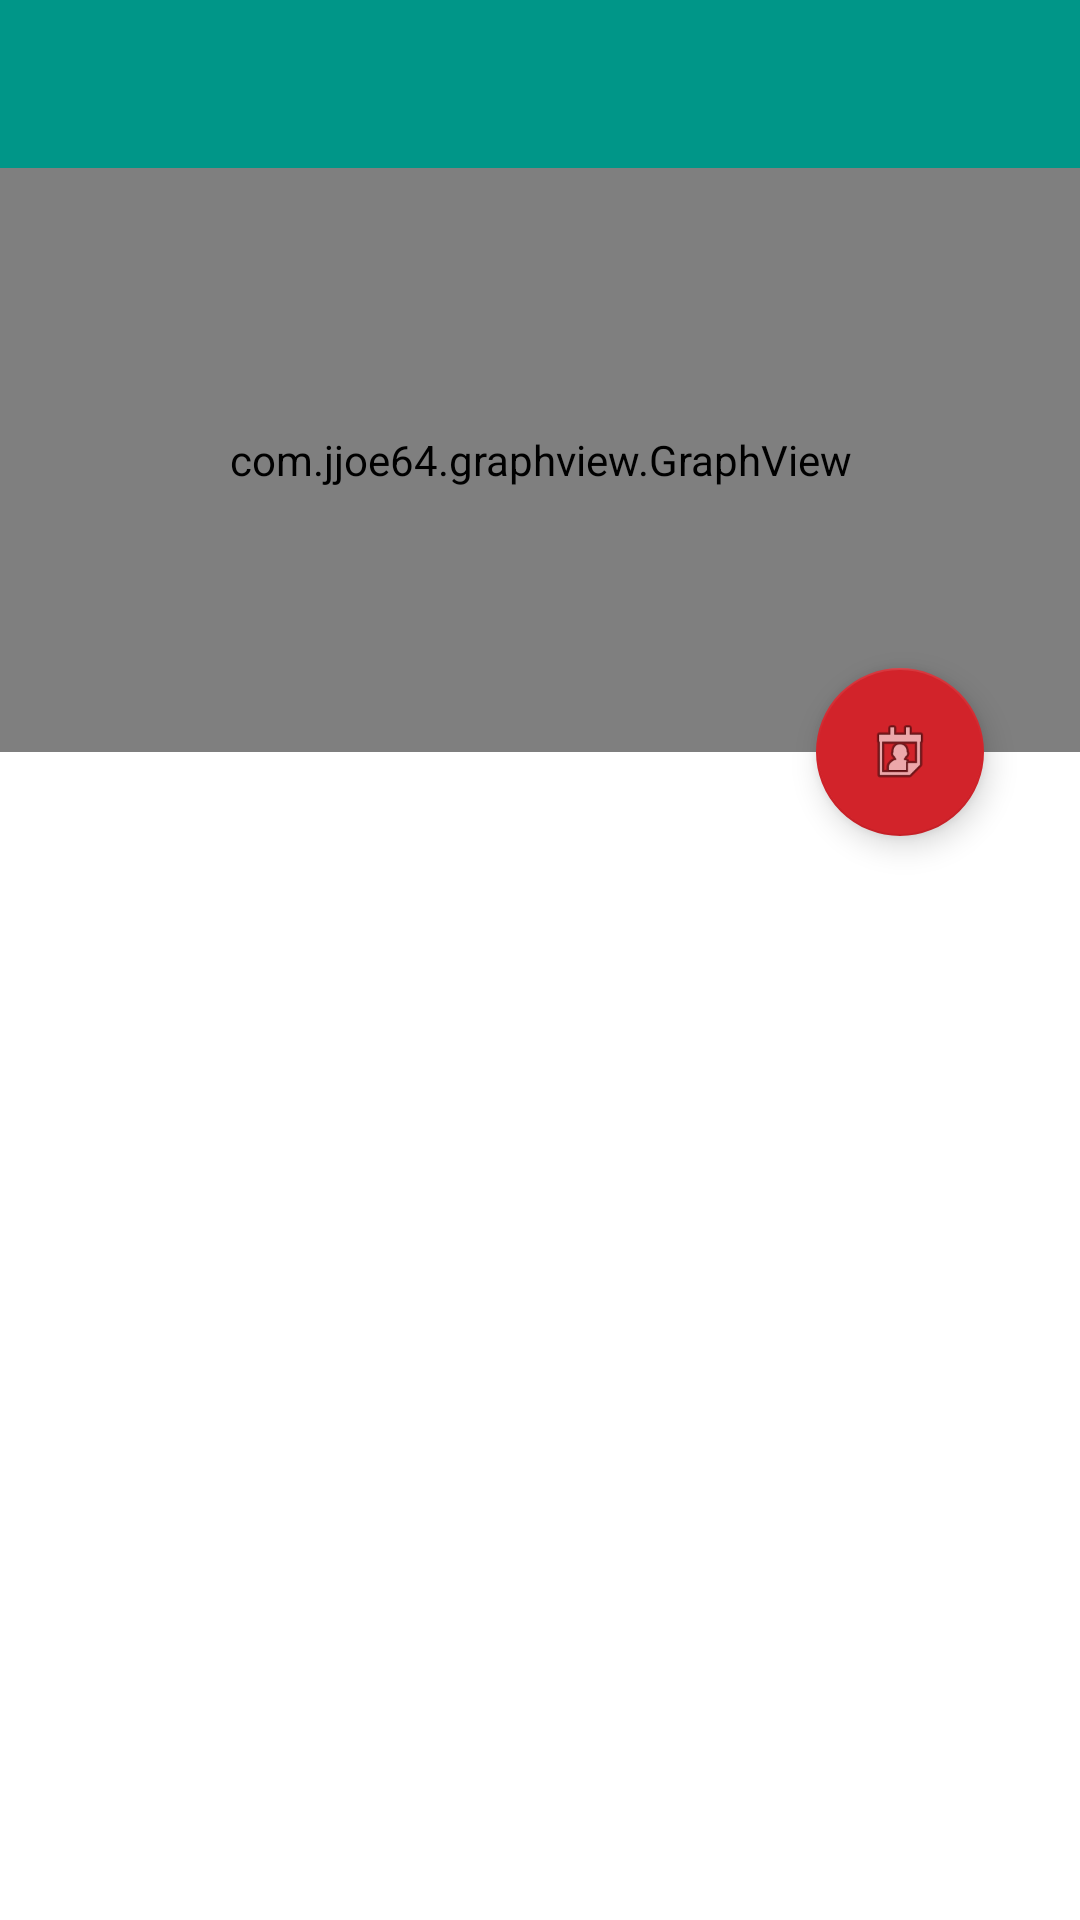

Icons on this 1080×1920 Android screen, each with the point to tap as point (x, y):
calendar: point (900, 752)
